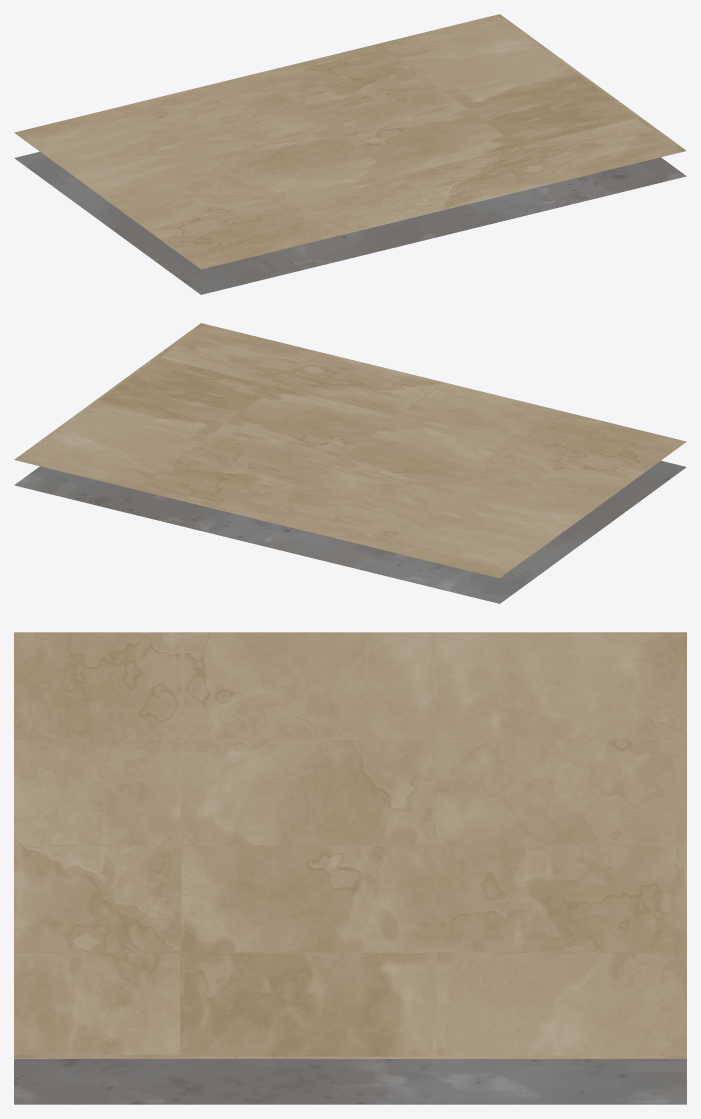
Rendered from Floor_Inset.gltf.
The picture shows the model from 3 angles, top to bottom: view 1: azimuth 30°, elevation 25°; view 2: azimuth 150°, elevation 25°; view 3: azimuth 270°, elevation 25°; orthographic projection. The views are drawn at different scales.
Visible parts, largest first — view 1: Floor_Inset; view 2: Floor_Inset; view 3: Floor_Inset.
Boxes of the visible parts, x1,y1,x2,y2 form: Floor_Inset: (14, 14, 686, 294); Floor_Inset: (14, 323, 686, 603); Floor_Inset: (14, 632, 686, 1104).
Size of the model in its own units: 2 by 0.1 by 1.33.
2 materials, 2 textured.
